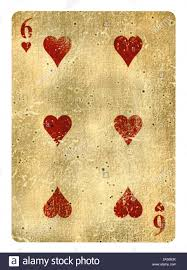six of hearts: (13, 13, 174, 242)
